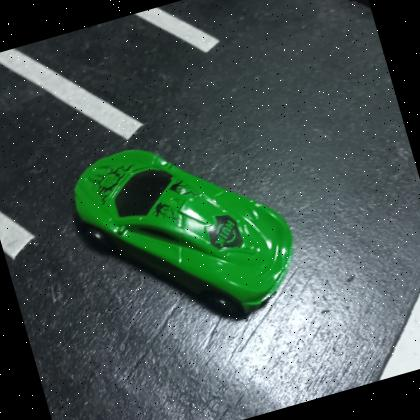Car: (62, 108, 310, 354)
